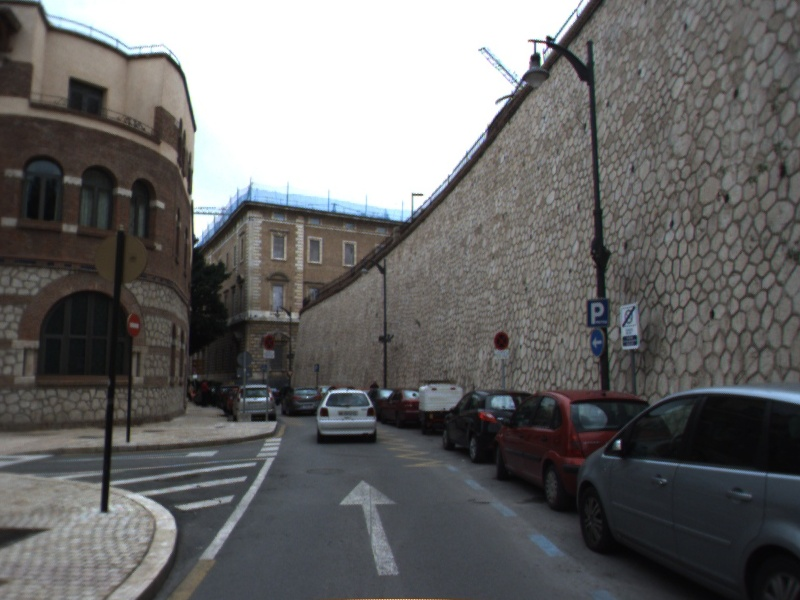STRAIGHT: (338, 478, 401, 577)
